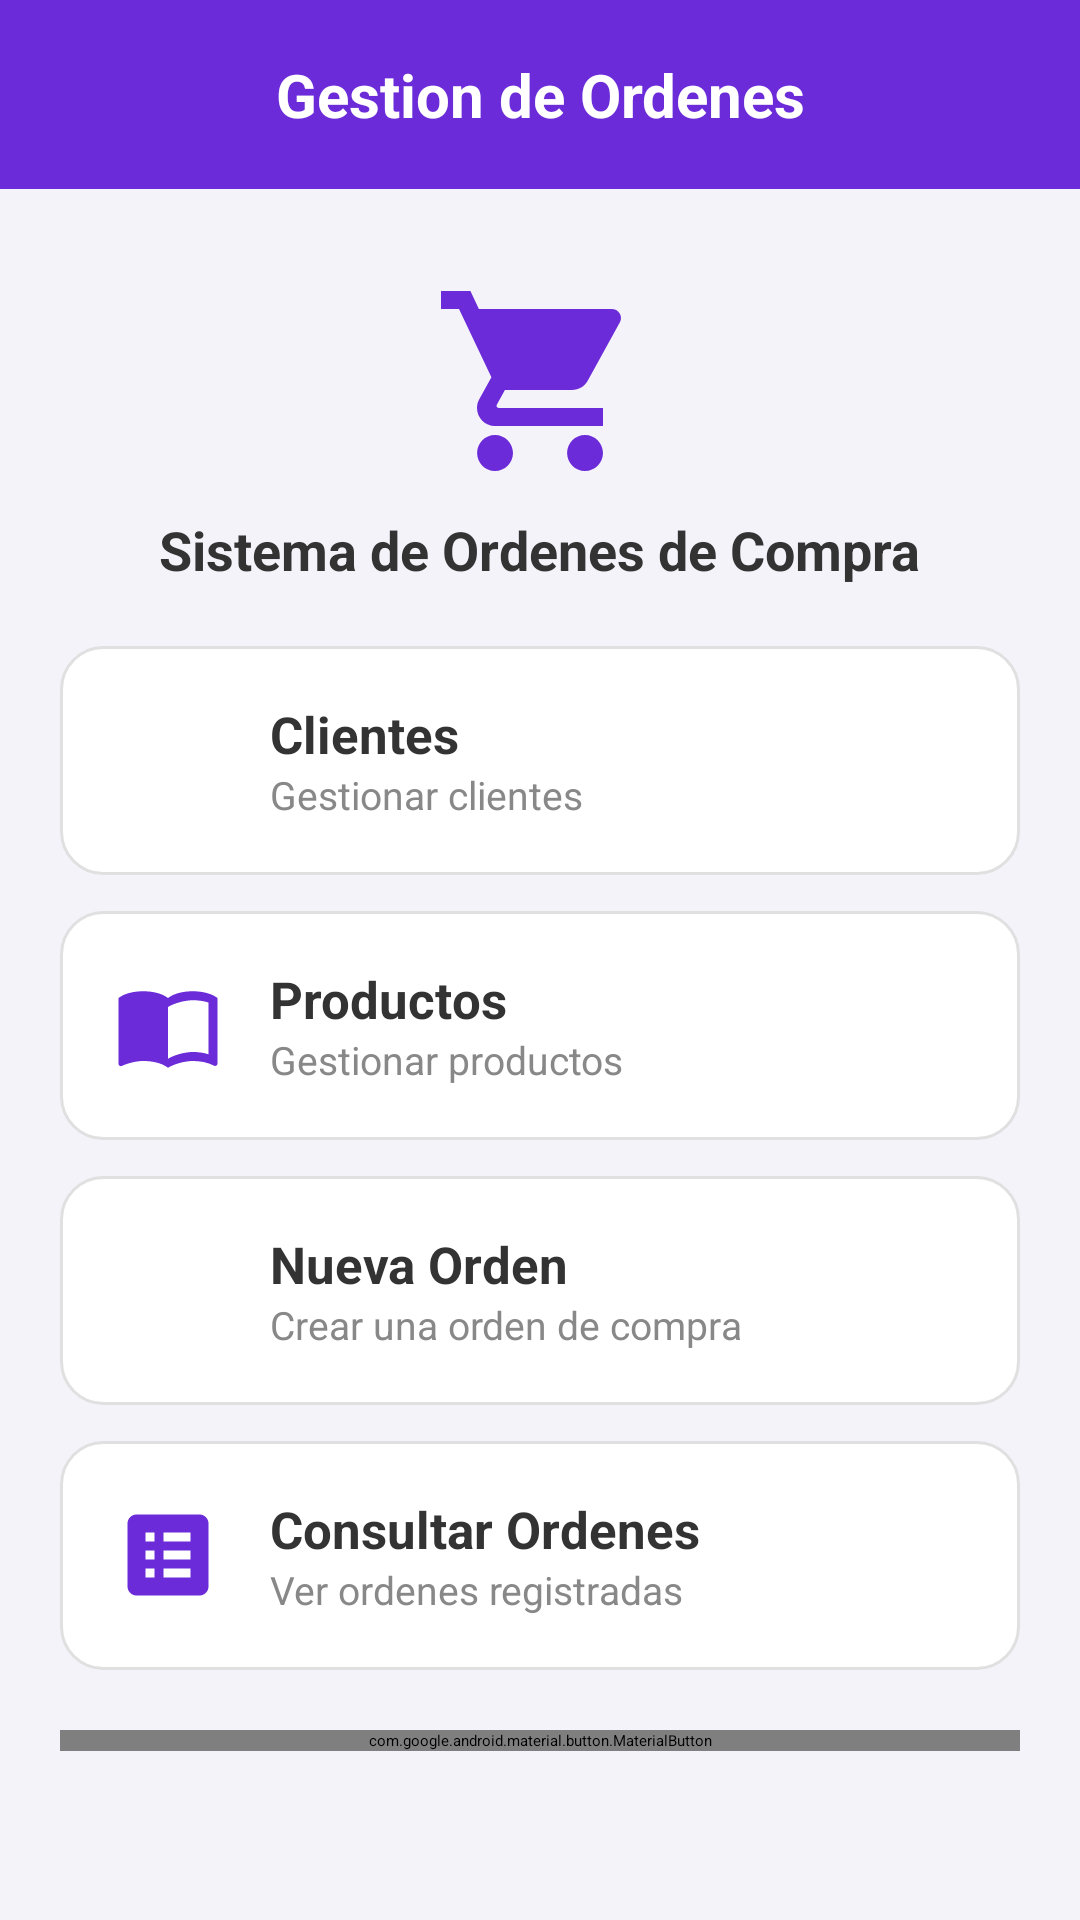

Where icons sit on this 1080x1920 app screen, as (x1, y1, x2, y2):
carrito: (441, 291, 621, 471)
libro: (118, 991, 218, 1068)
